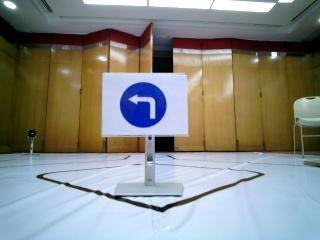left: (110, 75, 177, 139)
